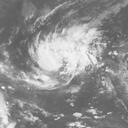cyclone: (29, 23, 100, 91)
